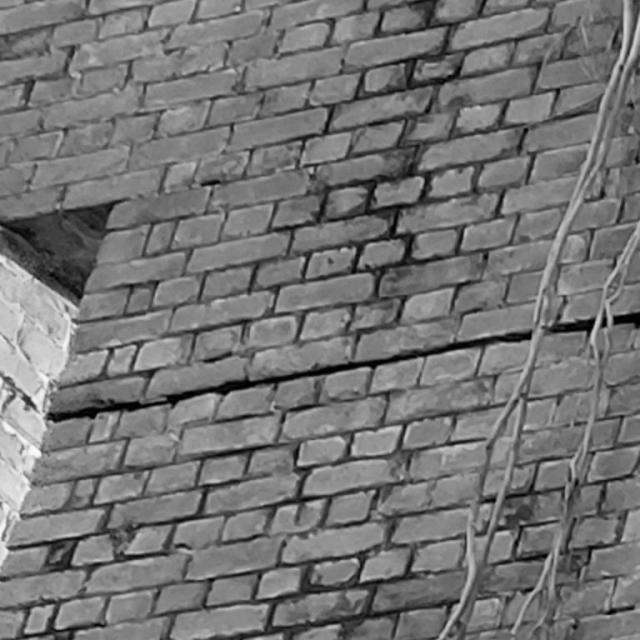crack: (47, 313, 638, 425)
